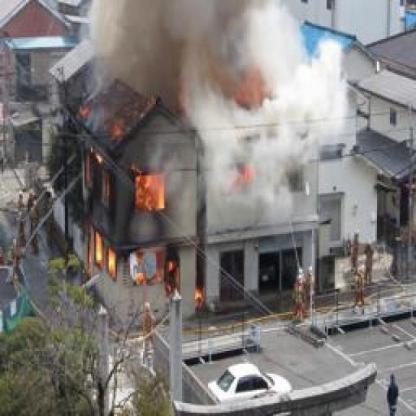fire: (64, 103, 206, 316)
